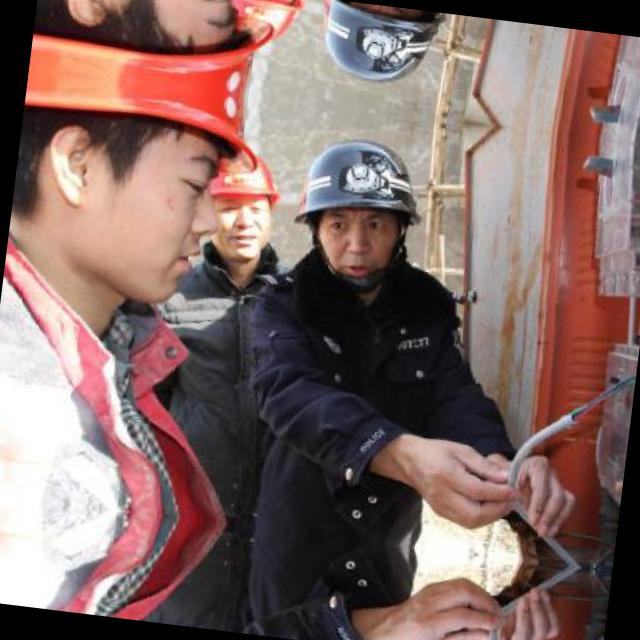helmet: (4, 70, 289, 319), (29, 0, 302, 100), (279, 125, 434, 298), (302, 0, 450, 98), (192, 146, 286, 260), (217, 0, 306, 47)
